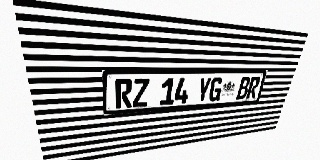1: (160, 78, 176, 105)
4: (174, 78, 190, 104)
B: (236, 77, 251, 99)
G: (208, 77, 224, 102)
R: (115, 79, 132, 109), (246, 76, 261, 99)
Y: (196, 77, 212, 102)
Z: (132, 78, 149, 107)
